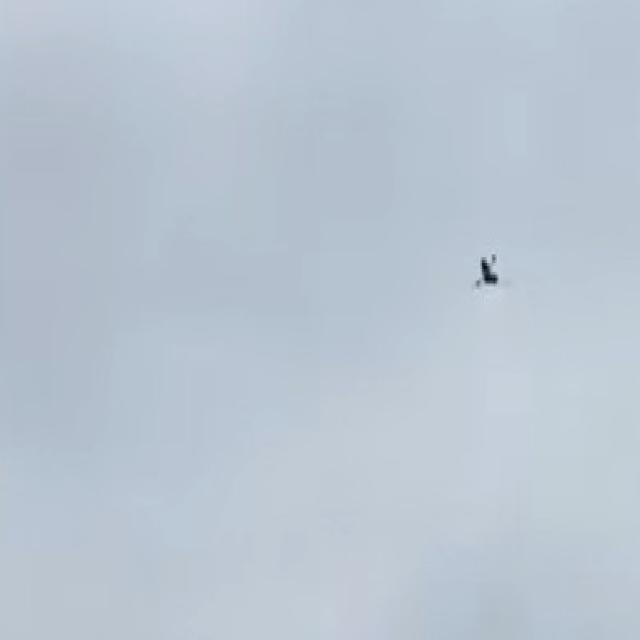drone: (470, 249, 504, 295)
